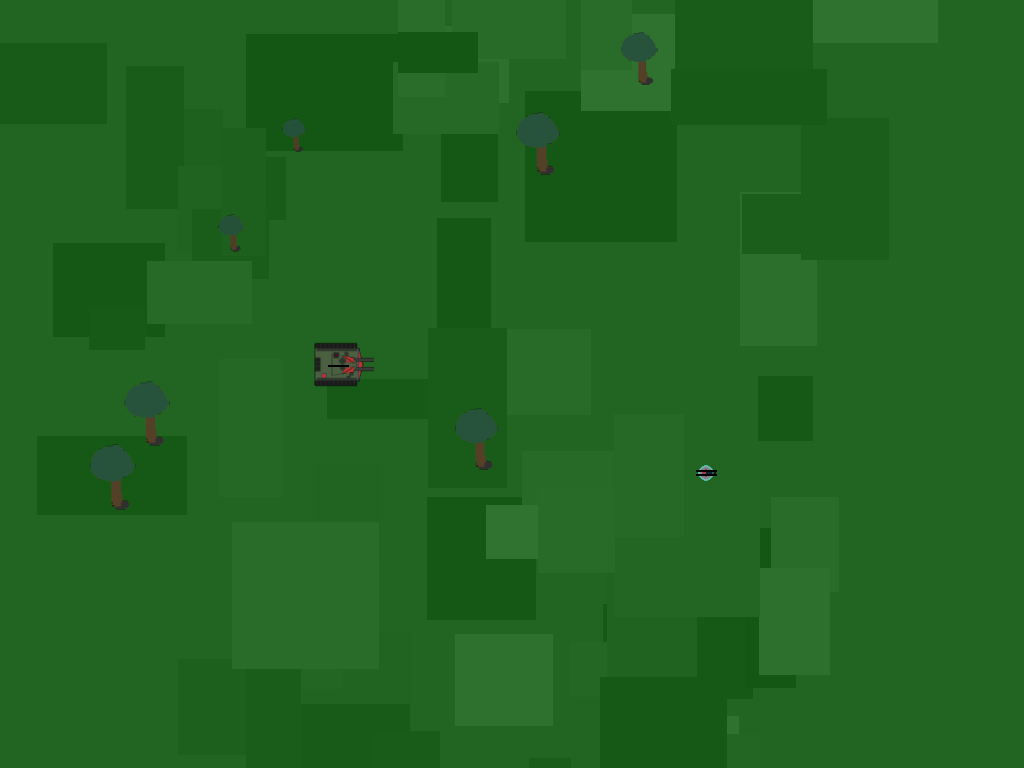Shotgunner: (692, 459, 720, 487)
Type99: (313, 338, 364, 389)
